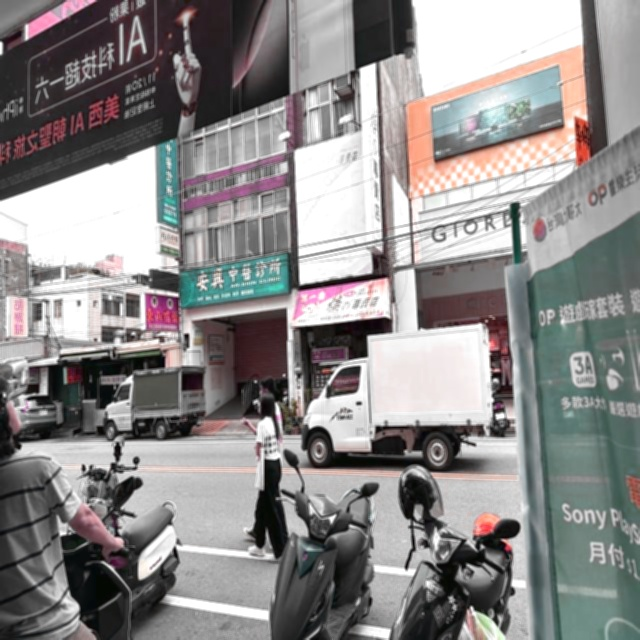Sin_Casco_Mascarrilla: (259, 393, 274, 416), (260, 376, 275, 396)
Sin_Chaleco: (260, 418, 280, 460)
